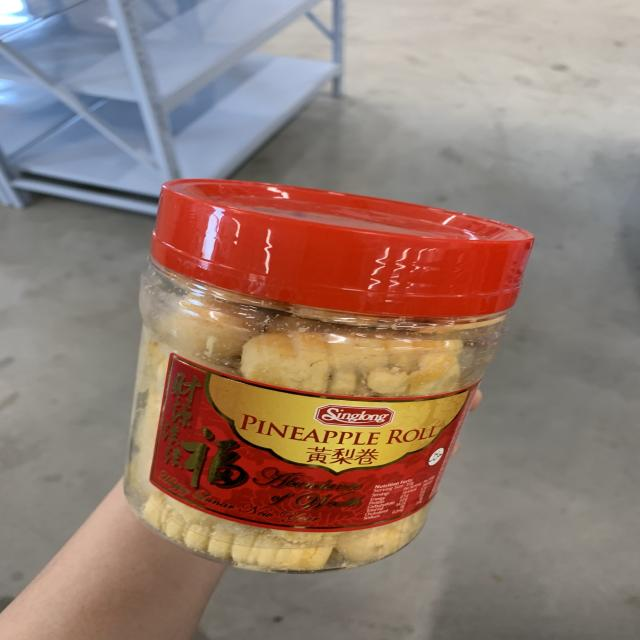object_name: (134, 193, 446, 569)
